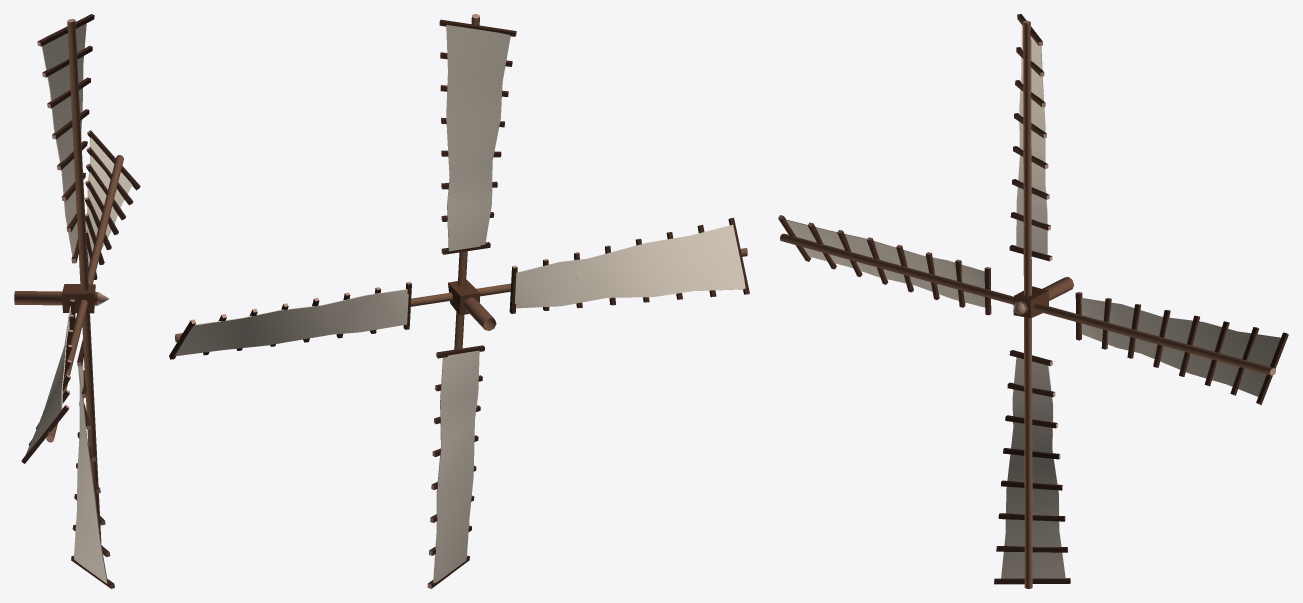
Rendered from aspasMolino.obj.
3 views of the same model, side by side, from view 1: azimuth 30°, elevation 25°; view 2: azimuth 150°, elevation 25°; view 3: azimuth 270°, elevation 25° (orthographic). The views are drawn at different scales.
Parts seen in each view (by area): view 1: Mill_wind_wheel; view 2: Mill_wind_wheel; view 3: Mill_wind_wheel.
Boxes of the visible parts, x1,y1,x2,y2 form: Mill_wind_wheel: (14, 14, 140, 588); Mill_wind_wheel: (169, 14, 749, 588); Mill_wind_wheel: (778, 14, 1288, 588).
Bounding box in the file's own units: 321 × 495 × 415.
